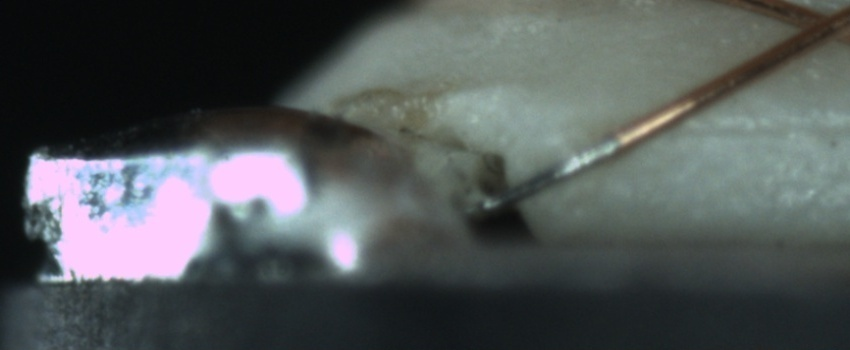CL: (779, 2, 849, 48)
DL: (671, 97, 850, 159)
TS: (475, 136, 622, 216)
